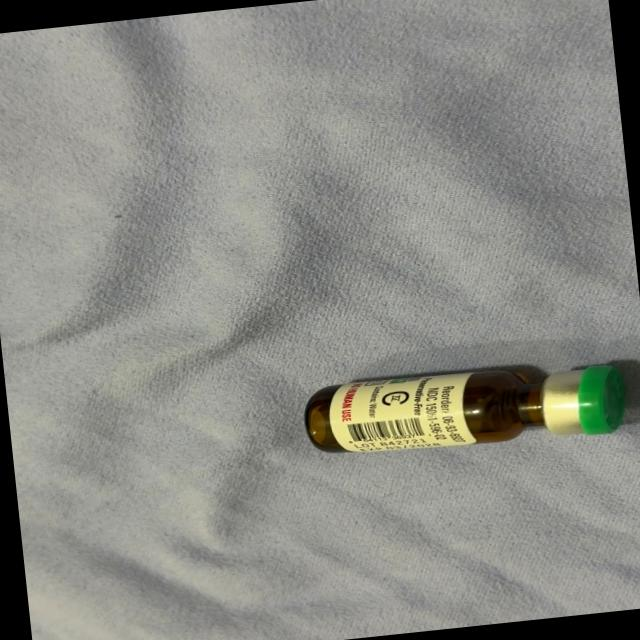midazolm: (306, 353, 624, 462)
